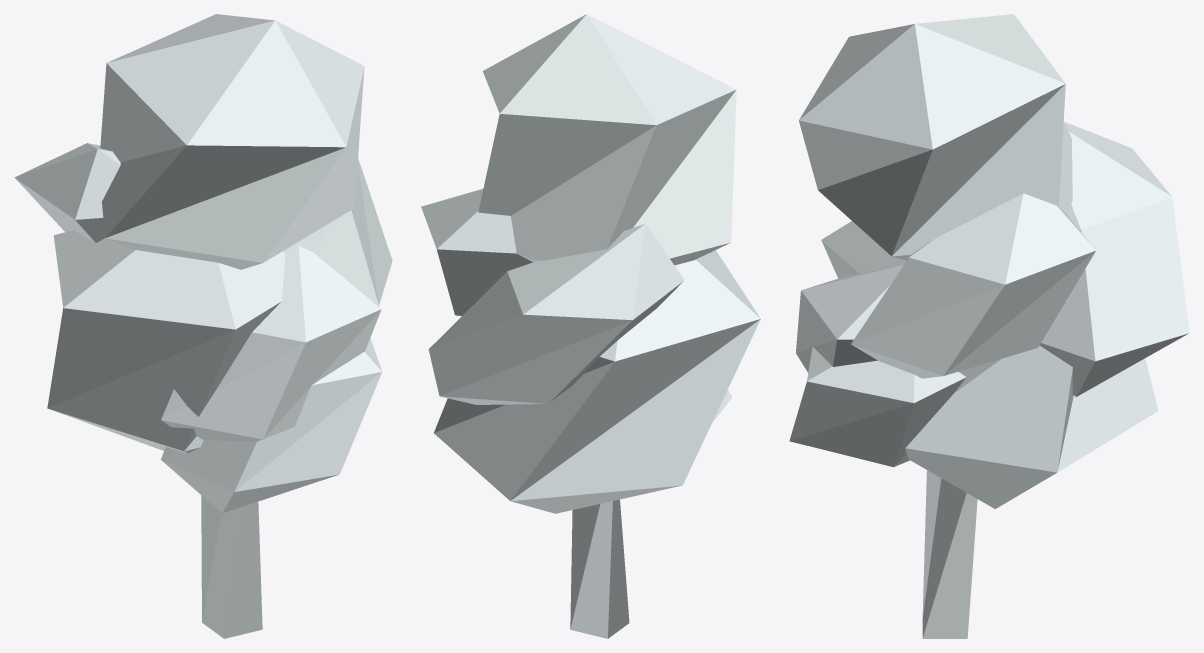
The model's file is Tree.009.fbx.
3 views of the same model, side by side, from view 1: azimuth 30°, elevation 25°; view 2: azimuth 150°, elevation 25°; view 3: azimuth 270°, elevation 25° (orthographic). The views are drawn at different scales.
Visible parts, largest first — view 1: Tree.009; view 2: Tree.009; view 3: Tree.009.
Part boxes in pixels (<box>): Tree.009: <box>14,14,392,638</box>; Tree.009: <box>421,14,760,638</box>; Tree.009: <box>789,14,1189,638</box>.
Bounding box in the file's own units: 1.29 × 2.29 × 1.34.
